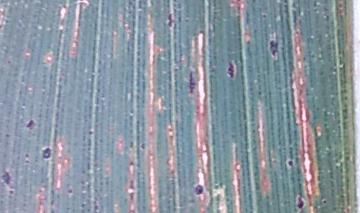tarspot: (185, 65, 199, 98), (266, 31, 280, 62), (224, 58, 240, 82), (1, 166, 16, 189), (294, 192, 309, 213), (192, 181, 208, 198), (24, 116, 38, 134), (39, 144, 53, 162), (165, 10, 176, 30), (285, 157, 298, 172), (137, 139, 148, 153), (79, 177, 90, 189), (67, 183, 74, 199), (24, 151, 31, 166), (3, 131, 13, 141), (86, 127, 96, 137), (80, 200, 89, 211), (320, 196, 329, 207), (93, 200, 101, 212), (80, 168, 89, 178), (260, 12, 269, 22), (6, 58, 14, 68), (7, 189, 17, 197)
